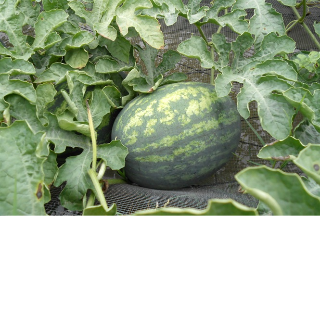dua_hau: (109, 81, 242, 188)
